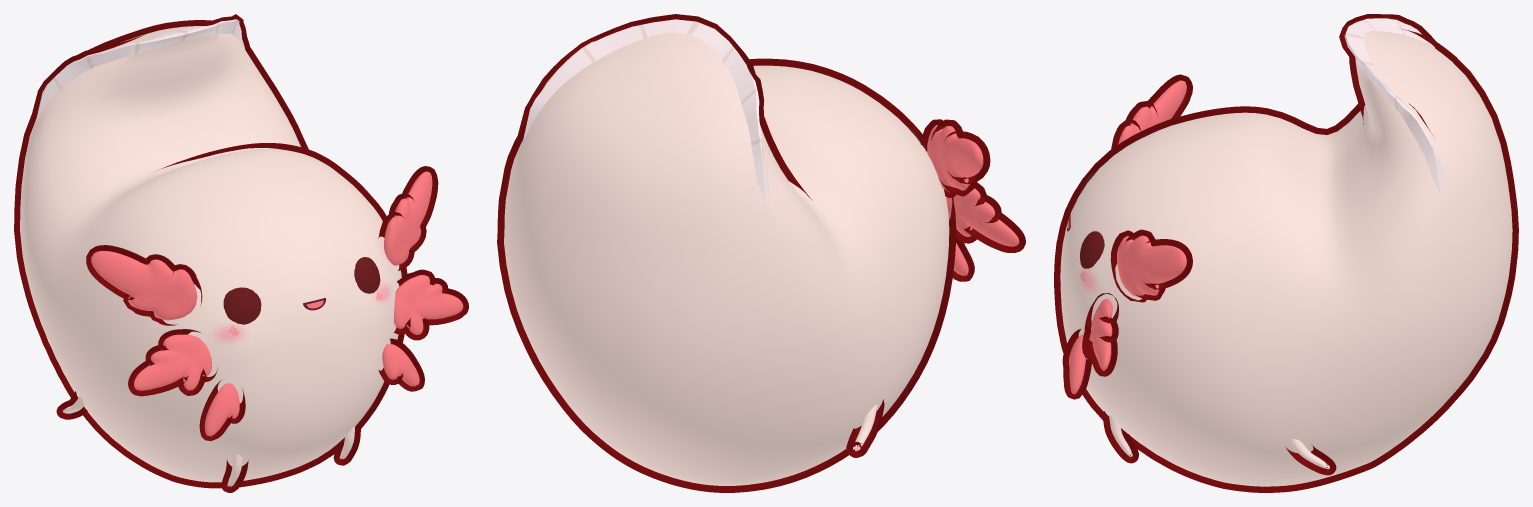
File: chonky_axolotl.glb
The picture shows the model from 3 angles, left to right: view 1: azimuth 30°, elevation 25°; view 2: azimuth 150°, elevation 25°; view 3: azimuth 270°, elevation 25°; orthographic projection. The views are drawn at different scales.
Parts seen in each view (by area): view 1: finB2_chonkyy_0, finB3_lineart_0, polySurface45_chonkyy_0, polySurface44_chonkyy_0; view 2: finB2_chonkyy_0, finB3_lineart_0; view 3: finB2_chonkyy_0, finB3_lineart_0, polySurface44_chonkyy_0.
Boxes of the visible parts, box(x1,y1,x2,y2) form: finB2_chonkyy_0: box(20, 19, 463, 486); finB3_lineart_0: box(14, 14, 468, 492); polySurface45_chonkyy_0: box(223, 287, 261, 324); polySurface44_chonkyy_0: box(354, 257, 380, 293); finB2_chonkyy_0: box(504, 19, 1019, 485); finB3_lineart_0: box(497, 14, 1025, 492); finB2_chonkyy_0: box(1060, 18, 1512, 486); finB3_lineart_0: box(1054, 14, 1518, 492); polySurface44_chonkyy_0: box(1080, 231, 1104, 268).
Size of the model in its own units: 2.19 by 2.5 by 2.36.
2 materials, 1 textured.
